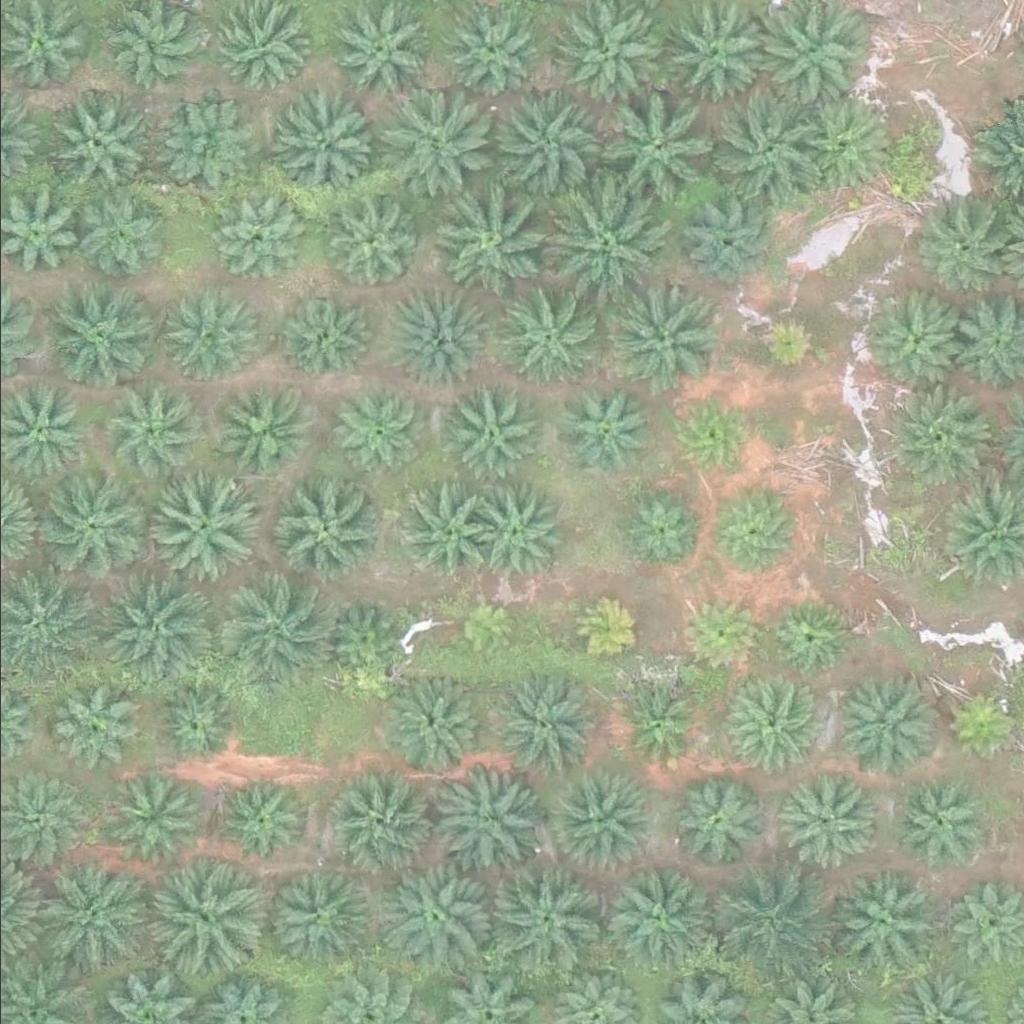Kelapa_Sawit: (373, 862, 487, 975), (489, 669, 603, 782), (96, 576, 210, 689), (268, 473, 382, 586), (492, 865, 605, 978), (155, 862, 268, 975), (424, 767, 537, 880), (141, 466, 254, 579), (489, 88, 602, 201), (828, 863, 941, 976), (705, 864, 818, 977), (542, 185, 655, 298), (593, 91, 706, 204), (371, 87, 485, 199), (880, 379, 994, 491), (34, 861, 147, 973), (218, 579, 331, 691), (34, 469, 147, 581), (433, 181, 546, 293), (606, 282, 719, 394), (710, 97, 823, 209), (266, 868, 367, 968), (549, 768, 650, 868), (326, 781, 427, 881), (385, 682, 486, 782), (465, 482, 566, 582), (552, 376, 653, 476), (436, 383, 537, 483), (212, 383, 313, 483), (95, 385, 196, 485), (496, 289, 597, 389), (163, 286, 264, 386), (44, 285, 145, 385), (323, 194, 424, 294), (268, 94, 369, 194), (39, 98, 140, 198), (891, 774, 992, 874), (781, 774, 882, 874), (658, 767, 759, 867), (829, 672, 930, 772), (721, 671, 822, 771), (909, 190, 1010, 290), (792, 96, 893, 196), (658, 4, 759, 104), (382, 285, 482, 385), (157, 90, 257, 190), (608, 872, 708, 972), (863, 295, 963, 395), (326, 386, 415, 474), (42, 685, 130, 773), (313, 599, 401, 687), (398, 491, 486, 579), (283, 291, 371, 379), (710, 490, 798, 578), (618, 490, 706, 578), (678, 588, 766, 676), (767, 596, 855, 684), (685, 203, 773, 291), (211, 777, 300, 864), (97, 781, 185, 868), (145, 680, 233, 767), (215, 192, 303, 279), (74, 192, 162, 279), (444, 11, 532, 98), (668, 391, 756, 478), (618, 681, 706, 768), (568, 593, 644, 668), (752, 308, 815, 371), (452, 598, 515, 660)
